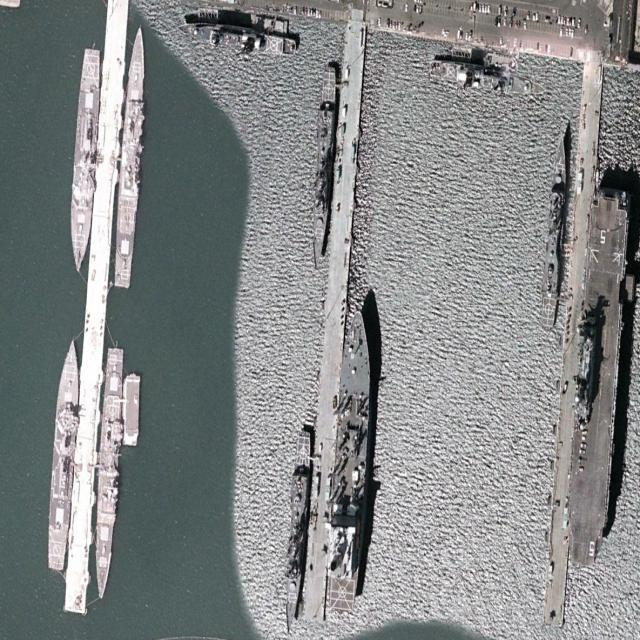Commander: (324, 307, 377, 613)
Cruiser: (112, 25, 149, 290), (91, 346, 125, 600)
Destroyer: (43, 335, 83, 571), (66, 47, 103, 273)
Frigate: (538, 129, 571, 331), (281, 431, 312, 634), (309, 61, 339, 270)
Landing: (564, 189, 637, 571)
Other Ship: (427, 56, 547, 102), (175, 16, 296, 59)
